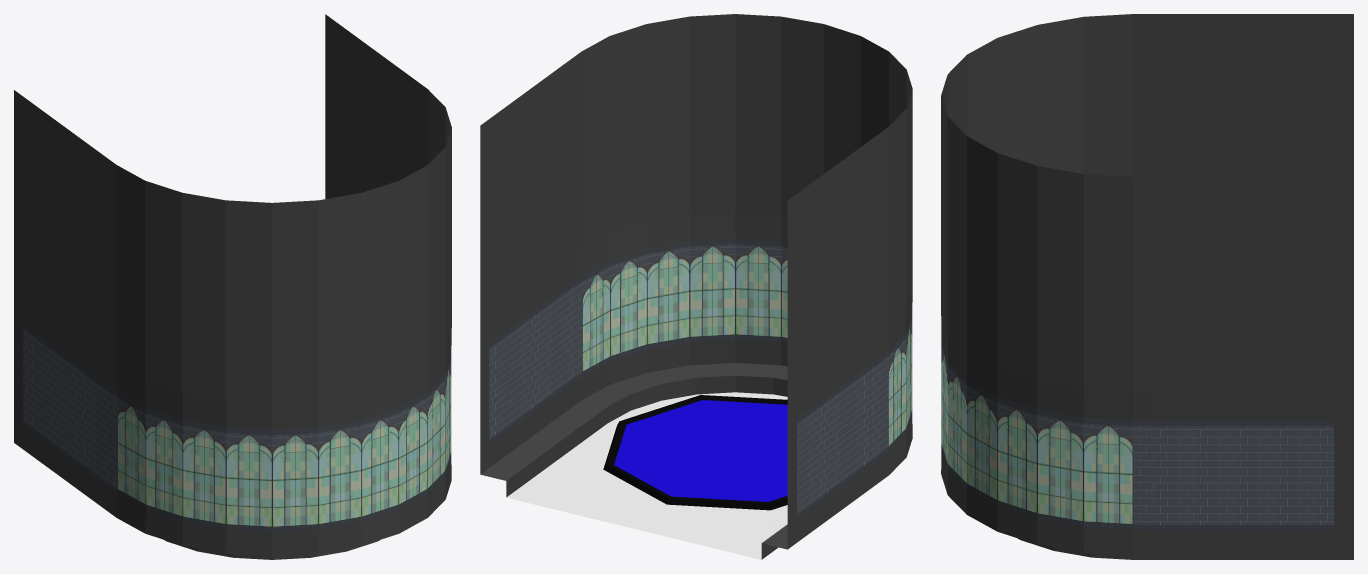
The model's file is Cathedral.fbx.
3 renders of one model, left to right at view 1: azimuth 30°, elevation 25°; view 2: azimuth 150°, elevation 25°; view 3: azimuth 270°, elevation 25°, orthographic. The views are drawn at different scales.
Visible parts, largest first — view 1: Walls; view 2: Walls, Sky; view 3: Walls.
Part boxes in pixels (x1,y1,x2,y2): Walls: [14, 14, 451, 559]; Walls: [480, 14, 912, 559]; Sky: [603, 395, 787, 510]; Walls: [941, 14, 1353, 559].
Bounding box in the file's own units: 1926 × 2189 × 2063.
